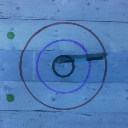Axe Tip: (58, 58, 70, 60)
